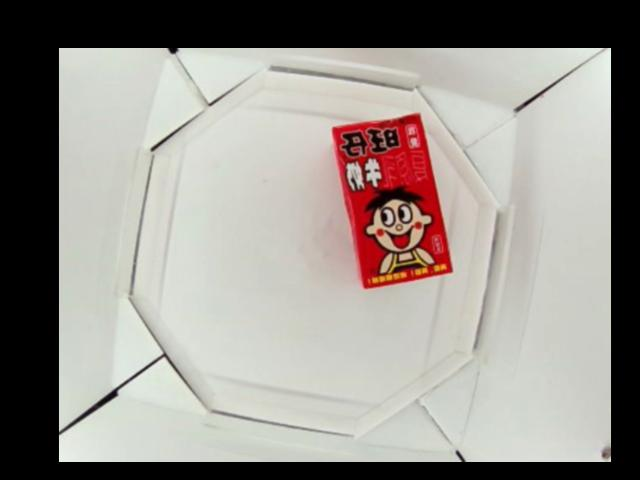Bottle: (330, 111, 454, 286)
